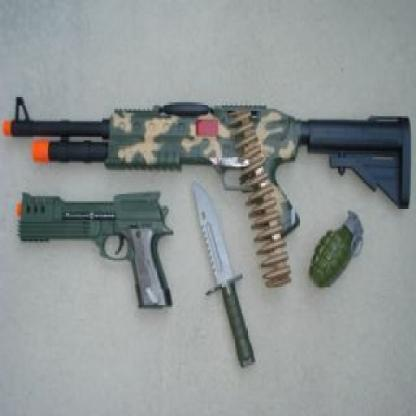Grenade: (307, 209, 365, 292)
Gun: (2, 94, 416, 239)
Knife: (189, 175, 258, 371)
Pistol: (12, 190, 175, 313)
